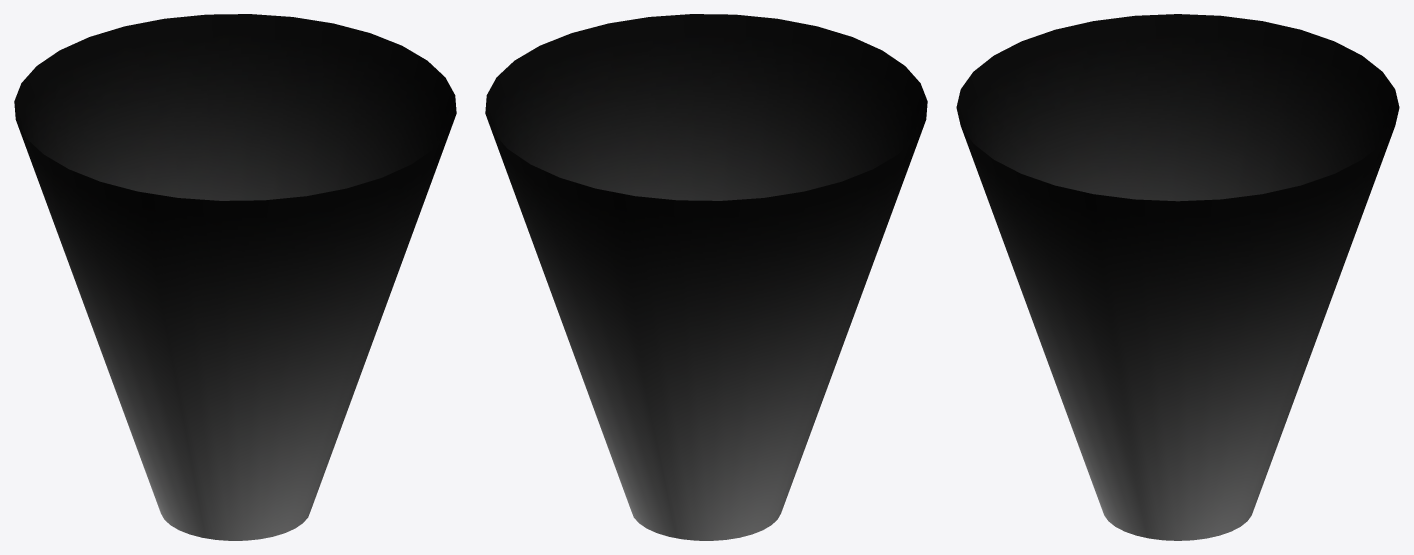
File: E_emsh_cylinder_039.fbx
3 renders of one model, left to right at view 1: azimuth 30°, elevation 25°; view 2: azimuth 150°, elevation 25°; view 3: azimuth 270°, elevation 25°, orthographic.
Visible parts, largest first — view 1: 柱体; view 2: 柱体; view 3: 柱体.
Boxes of the visible parts, box(x1,y1,x2,y2) form: 柱体: box(14, 14, 456, 540); 柱体: box(485, 14, 927, 540); 柱体: box(956, 14, 1399, 540).
Size of the model in its own units: 200 by 200 by 200.
